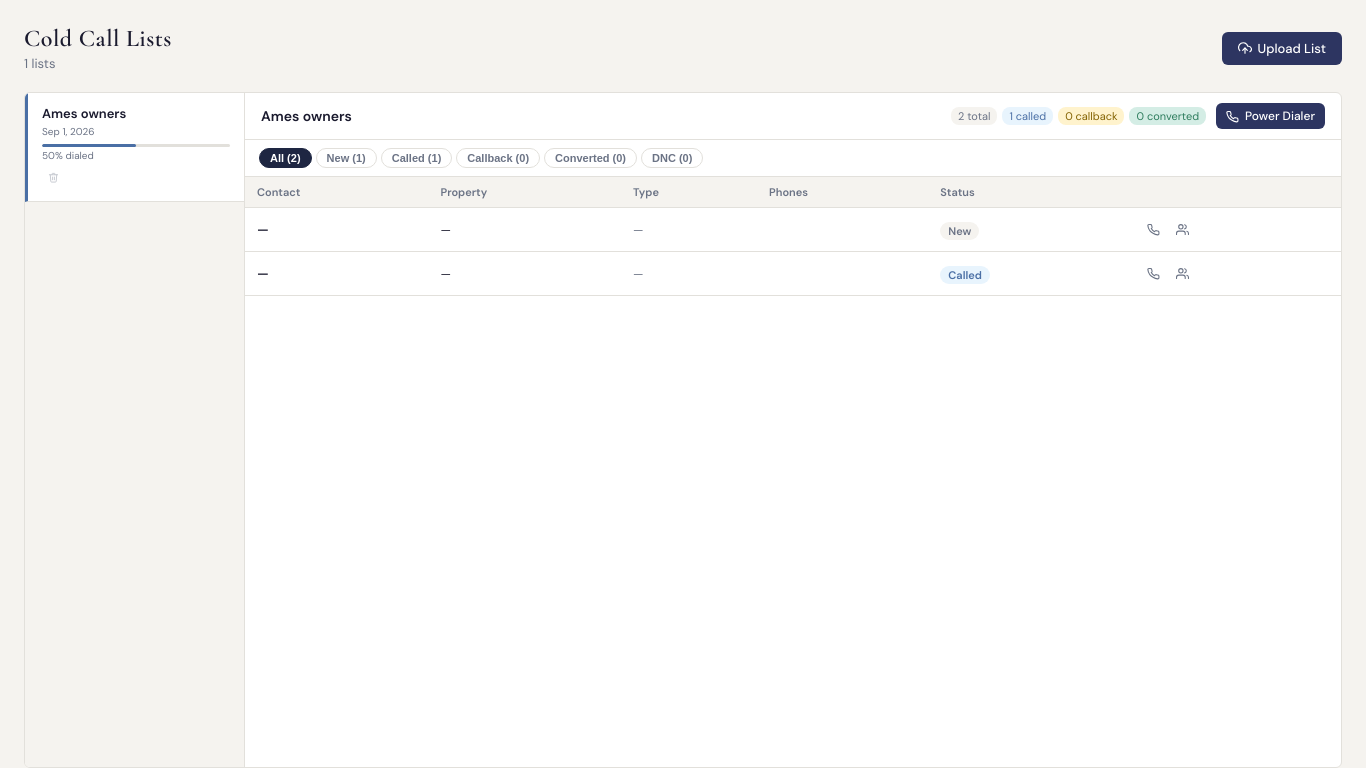
Test: Cold call list delete › deletes on confirm
Click the button named "Delete list Ames owners": (54, 178) [42,166,65,189]
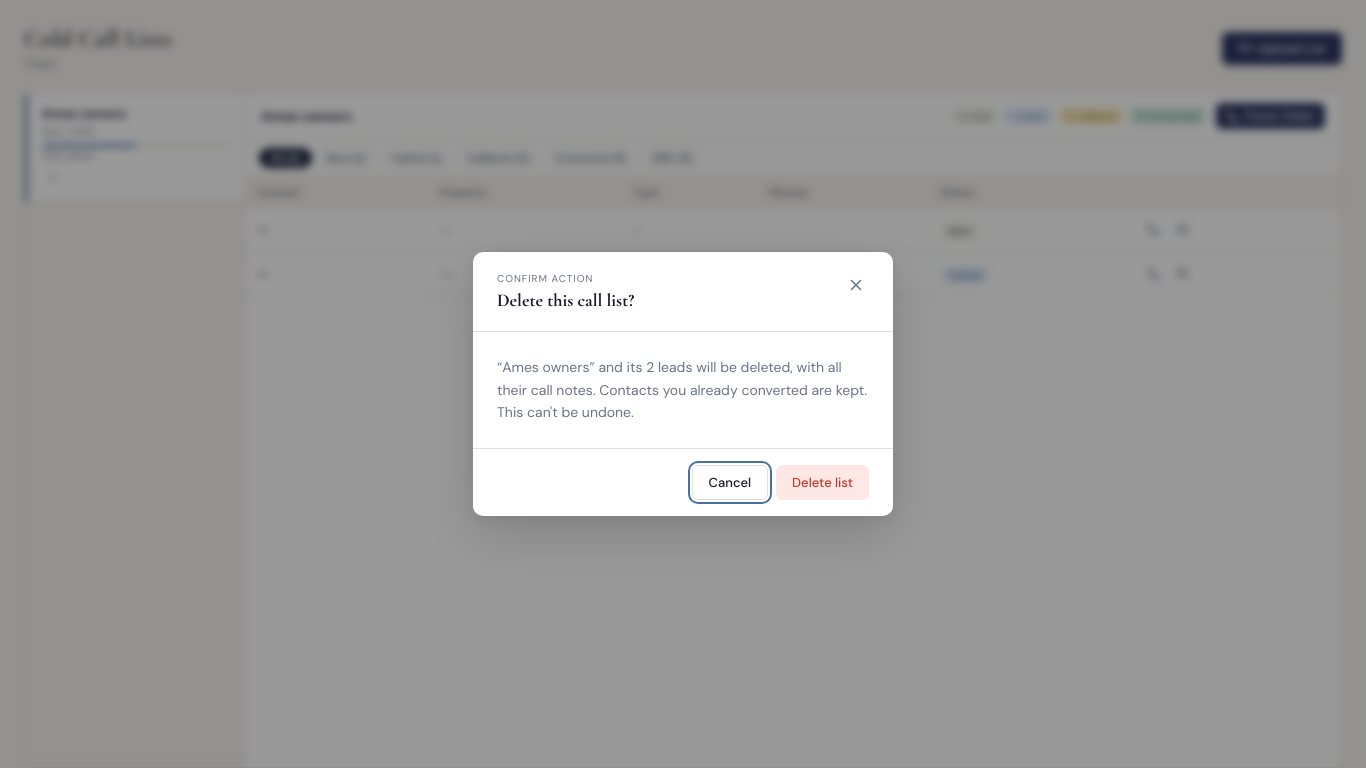
Click the button "Delete list": (823, 482) [776,465,869,500]
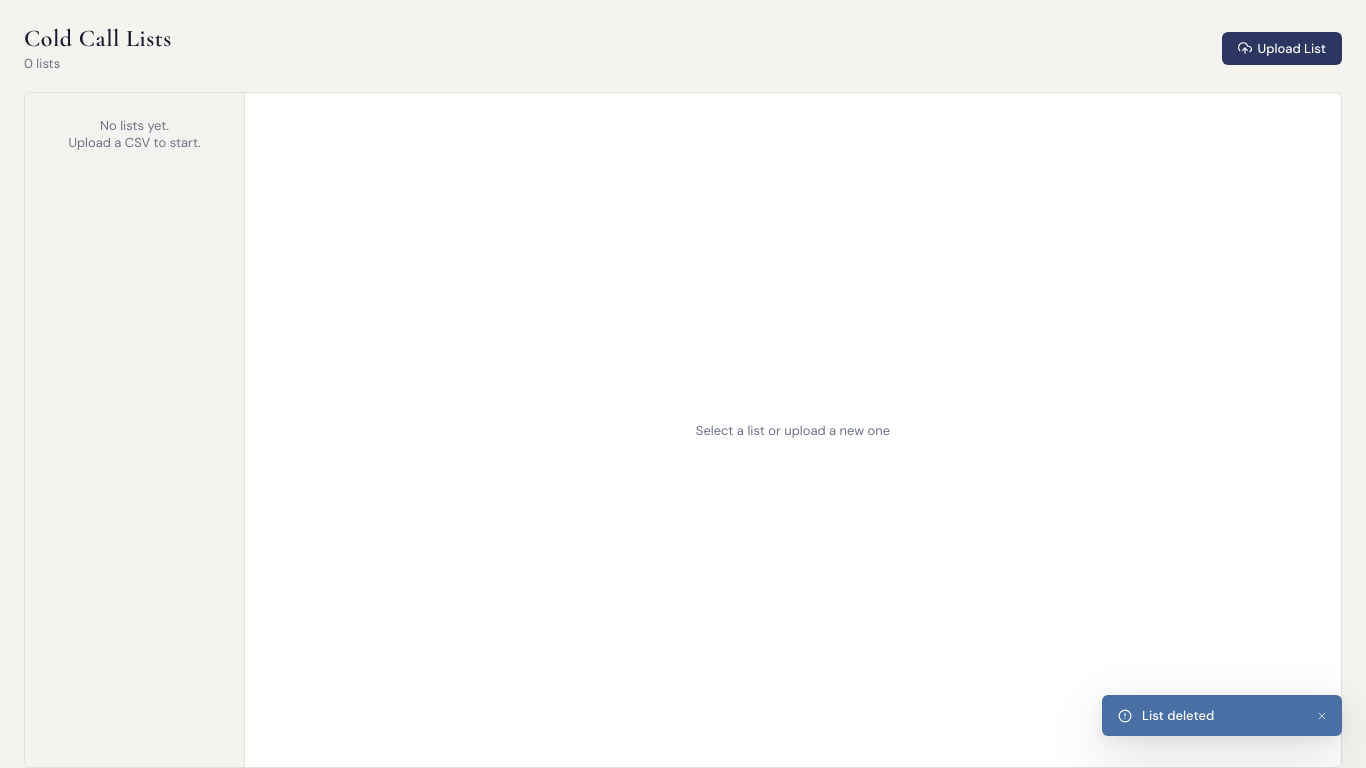
Check: the text "List deleted" is shown, box [1142,707,1214,724]
